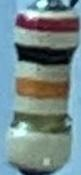Black: (15, 43, 77, 64)
Orange: (16, 77, 68, 99)
Red: (15, 12, 79, 33)
Side-Gold: (9, 111, 74, 134)
